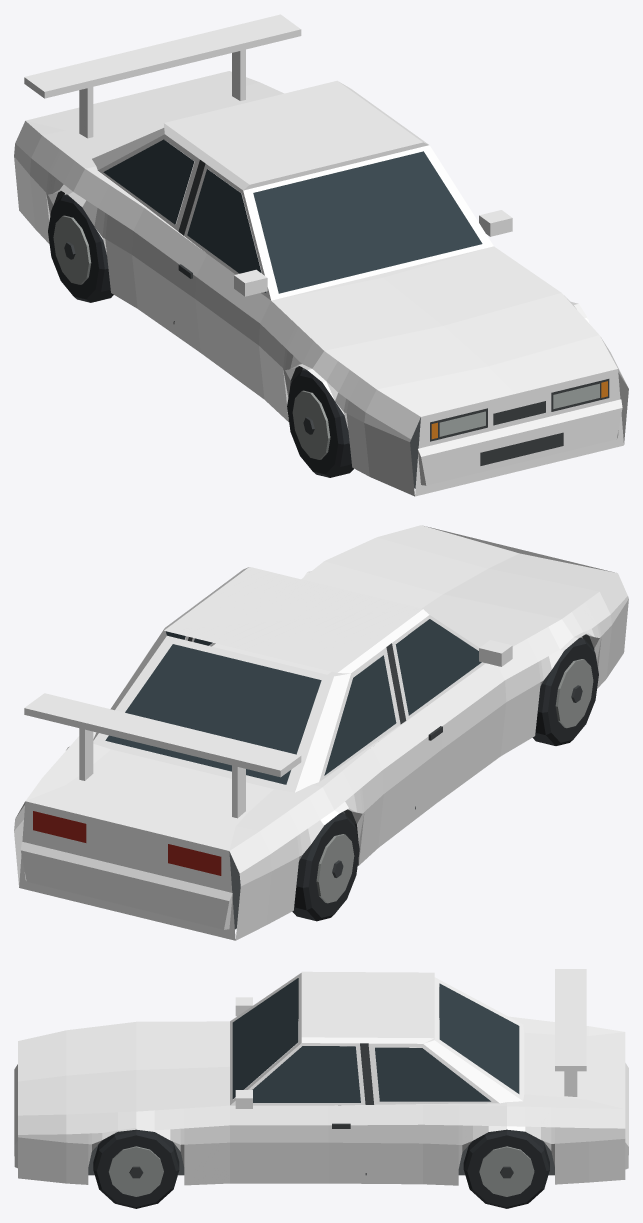
The model's file is hayase_tsubasa_corrida.glb.
3 views of the same model, one above another, from view 1: azimuth 30°, elevation 25°; view 2: azimuth 150°, elevation 25°; view 3: azimuth 270°, elevation 25° (orthographic). The views are drawn at different scales.
Parts seen in each view (by area): view 1: hayase_tsubasa_corrida; view 2: hayase_tsubasa_corrida; view 3: hayase_tsubasa_corrida.
Part boxes in pixels (box(x1,y1,x2,y2)): hayase_tsubasa_corrida: box(14, 14, 628, 496); hayase_tsubasa_corrida: box(14, 525, 628, 940); hayase_tsubasa_corrida: box(14, 969, 628, 1208).
Size of the model in its own units: 1.69 by 1.2 by 4.28.
8 materials, 1 textured.
